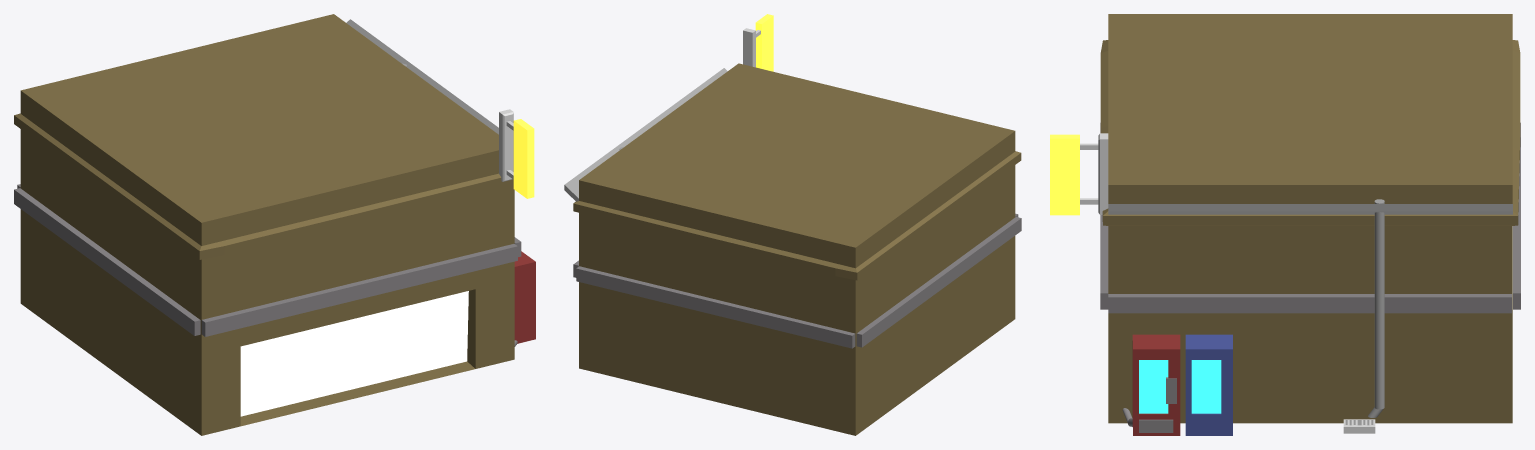
3 views of the same model, side by side, from view 1: azimuth 30°, elevation 25°; view 2: azimuth 150°, elevation 25°; view 3: azimuth 270°, elevation 25° (orthographic). The views are drawn at different scales.
Parts seen in each view (by area): view 1: Cube, Cube.004, Cube.006, Cube.011, Cube.017, Cube.015, Cube.002, Cube.012; view 2: Cube, Cube.009, Cube.011, Cube.002, Cube.015, Cube.012; view 3: Cube, Cube.010, Cube.002, Cube.007, Cube.017, Cube.015, Cylinder.001, Cube.008, Cube.016, Cube.009, Cube.012, Cube.006 (+2 smaller).
Boxes of the visible parts, x1,y1,x2,y2 form: Cube: [14, 14, 514, 435]; Cube.004: [240, 291, 468, 416]; Cube.006: [201, 243, 517, 336]; Cube.011: [14, 188, 200, 335]; Cube.017: [514, 251, 535, 343]; Cube.015: [513, 119, 534, 198]; Cube.002: [346, 19, 498, 134]; Cube.012: [499, 109, 513, 181]; Cube: [573, 63, 1021, 435]; Cube.009: [576, 266, 855, 348]; Cube.011: [856, 217, 1021, 347]; Cube.002: [564, 68, 727, 201]; Cube.015: [755, 14, 773, 71]; Cube.012: [743, 28, 755, 67]; Cube: [1100, 14, 1520, 423]; Cube.010: [1108, 294, 1511, 313]; Cube.002: [1108, 204, 1512, 214]; Cube.007: [1185, 334, 1232, 435]; Cube.017: [1132, 334, 1180, 435]; Cube.015: [1050, 134, 1079, 215]; Cylinder.001: [1368, 199, 1384, 417]; Cube.008: [1191, 360, 1221, 413]; Cube.016: [1139, 360, 1168, 413]; Cube.009: [1513, 122, 1520, 309]; Cube.012: [1098, 133, 1108, 214]; Cube.006: [1100, 123, 1108, 309].
Size of what is drawn, in the model's own units: 14.06 by 9.65 by 14.5.
